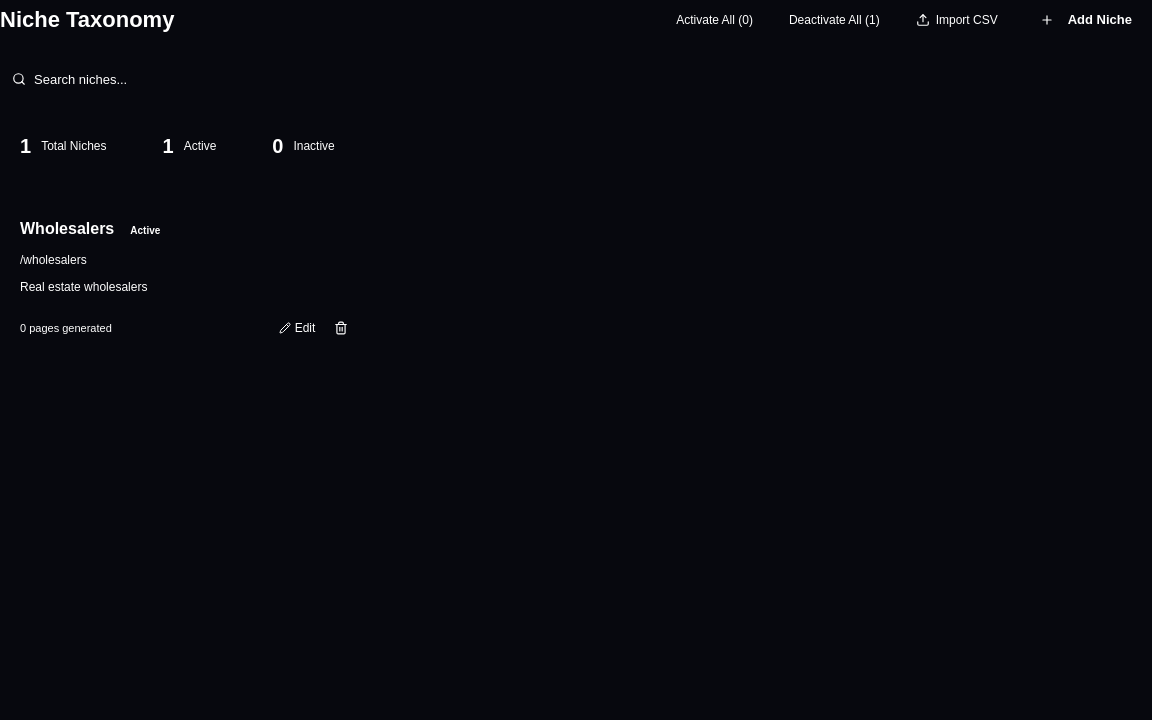
Test case: NichesManager delete › counts niche_id and silo_niche_id pages and offers Deactivate instead
This screenshot has width=1152, height=720.
Later steps or results of the test are not shown.
Click the button named "Delete Wholesalers": (341, 328) x1=329 y1=316 x2=353 y2=340
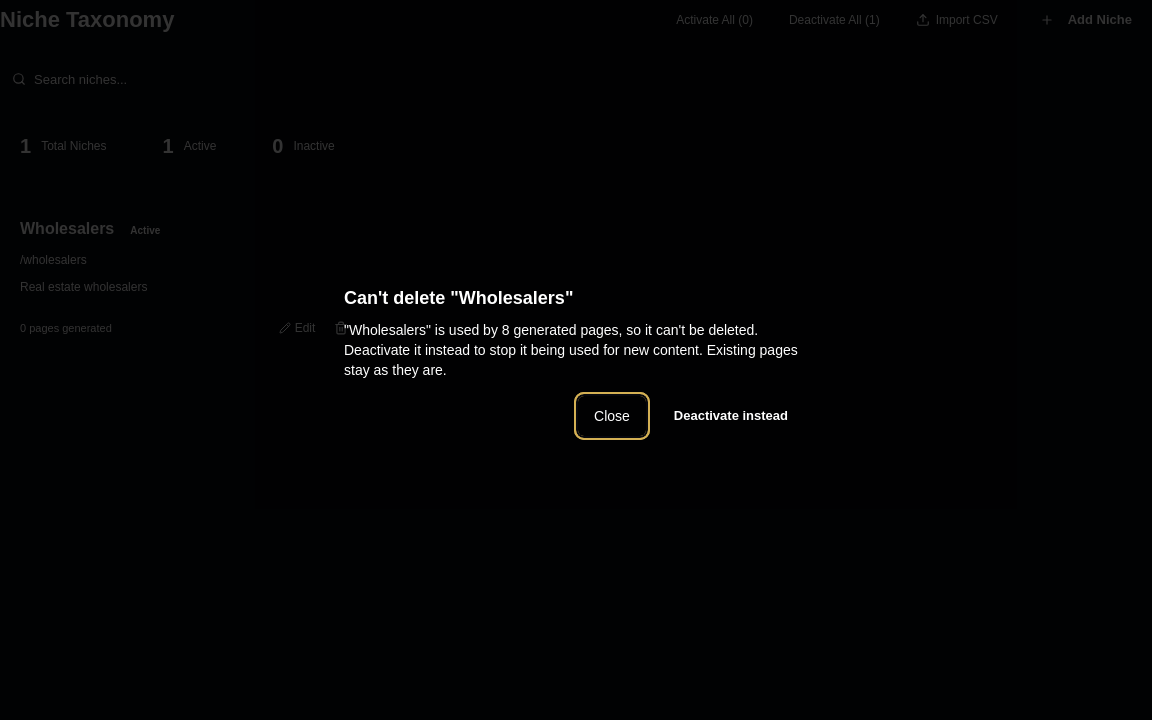
Expected: the text "used by 8 generated pages" is shown, x1=344 y1=322 x2=798 y2=378
Expected: the heading "Can't delete \"Wholesalers\"" is shown, x1=344 y1=288 x2=573 y2=308
